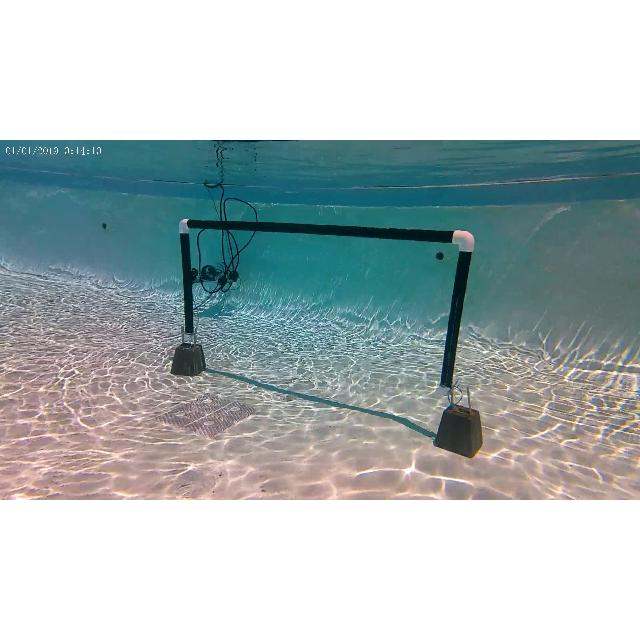prequal gate: (180, 219, 474, 397)
prequal gate leg l: (178, 218, 205, 346)
prequal gate leg r: (438, 220, 476, 394)
